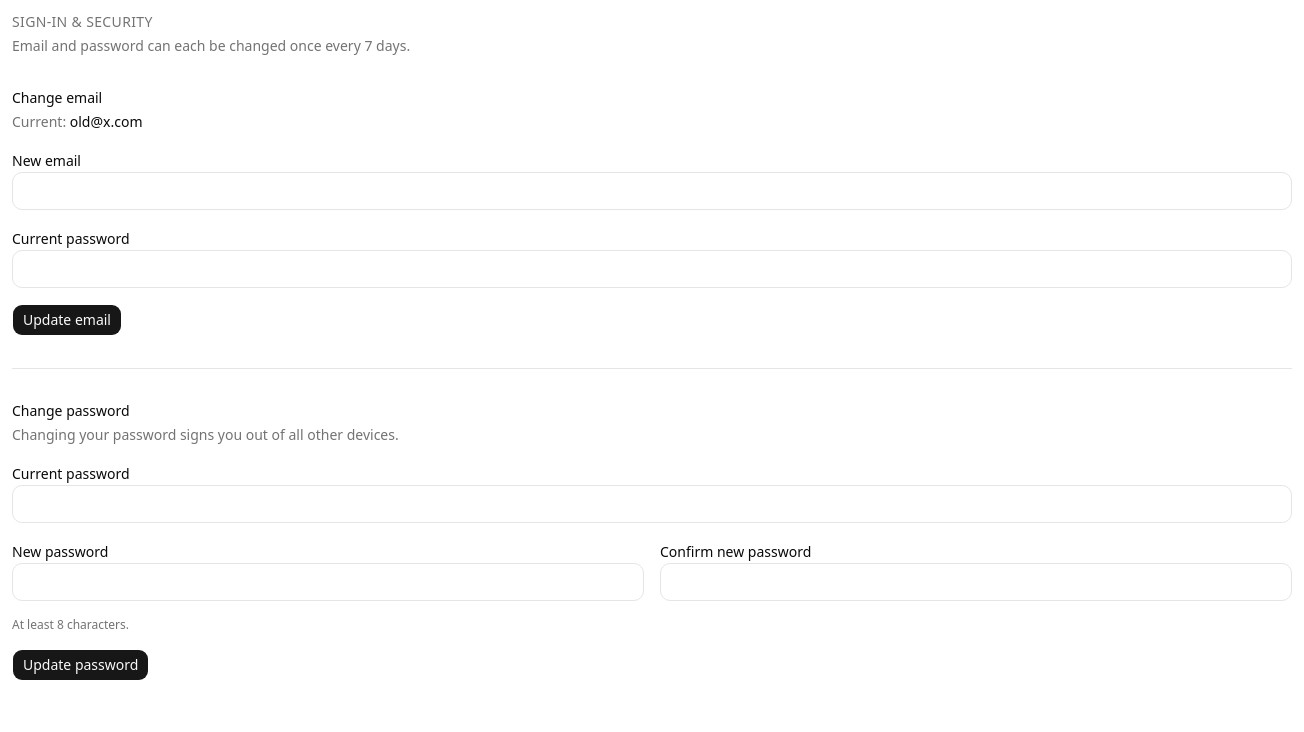
CredentialForms — password cooldown › blocks submit and does not call the API when the new passwords differ
In the password field labelled "Current password" below "Change password": point(652, 504) [12,485,1292,523], type "oldpass"
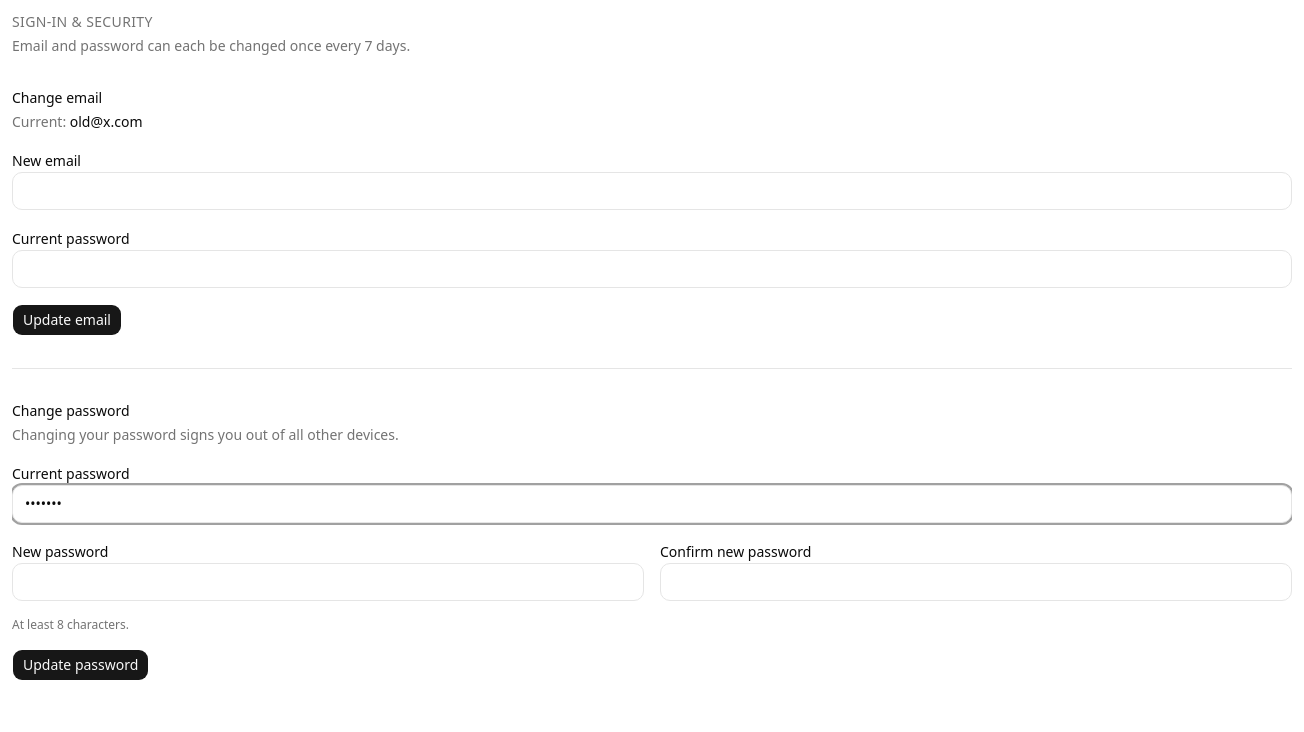
In the password field labelled "New password": point(328, 582) [12,563,644,601], type "brand-new-pass"
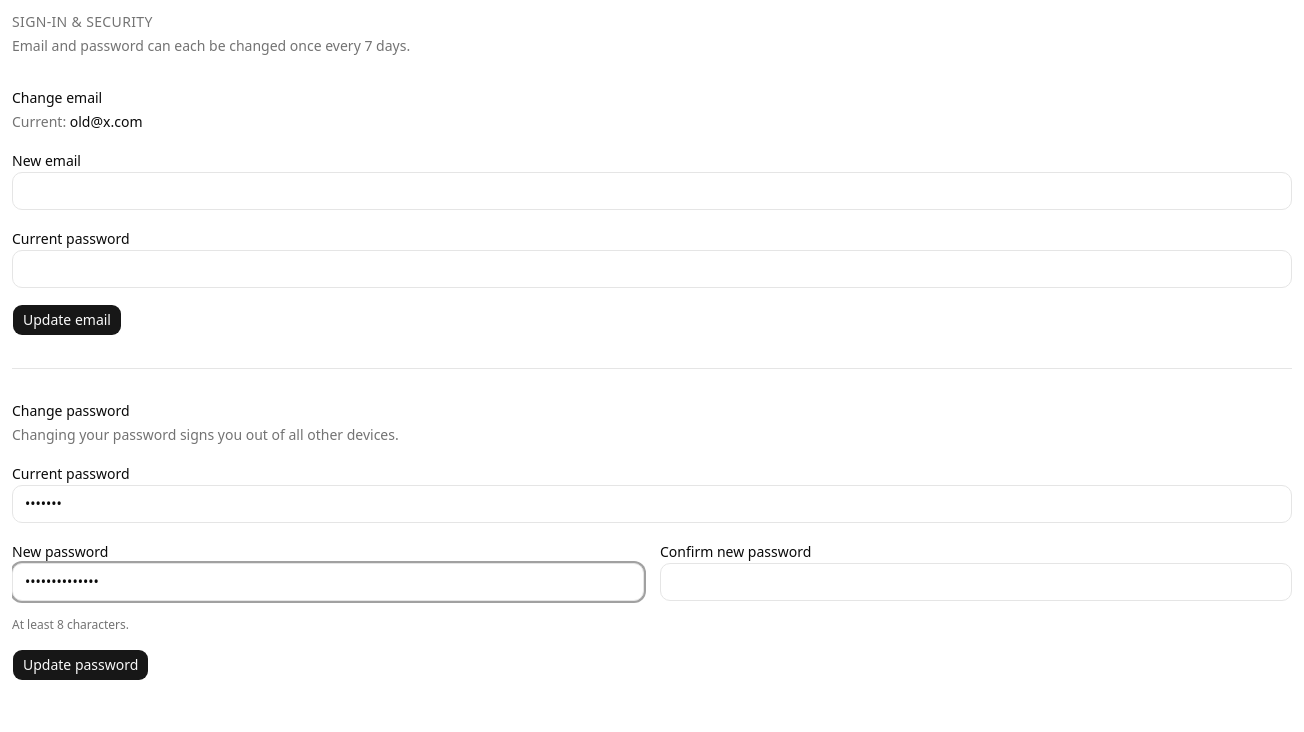
In the password field labelled "Confirm new password": point(976, 582) [660,563,1292,601], type "different-pass"
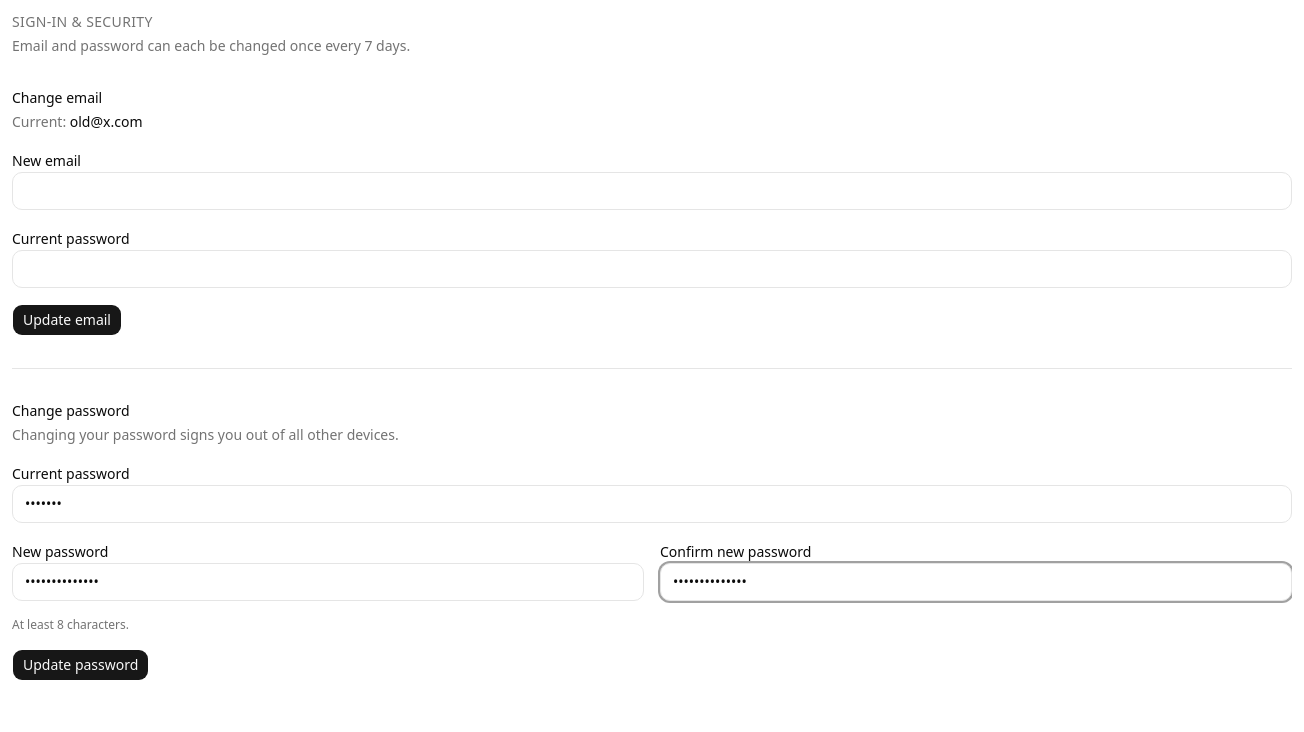
Click the button "Update password": point(81, 665) [12,649,149,681]
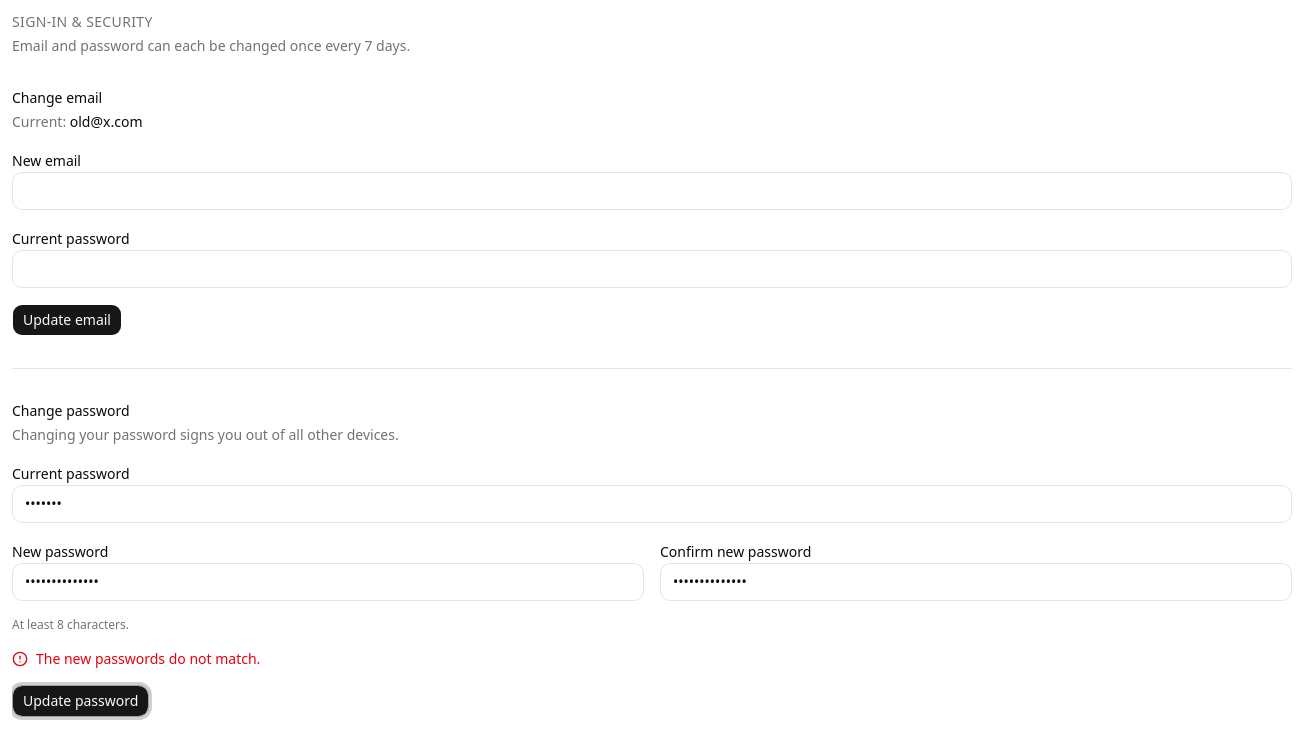
Expected: the text "The new passwords do not match." is shown, [12,649,260,668]
